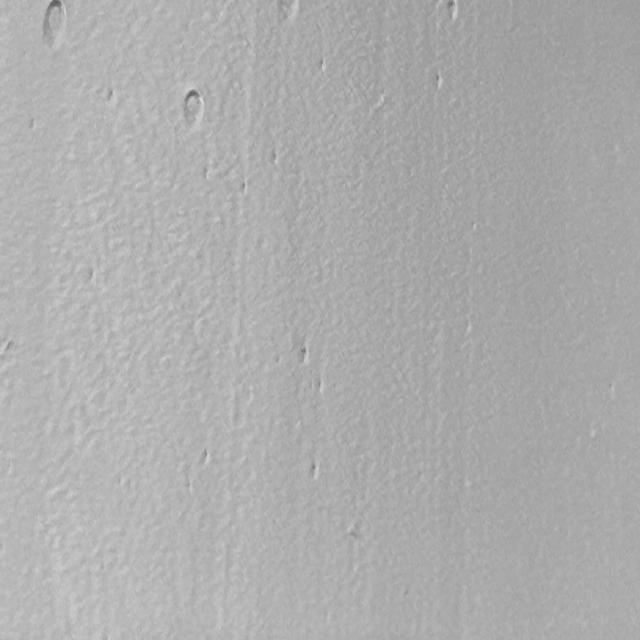pin holes: (38, 0, 71, 51), (178, 88, 206, 128), (278, 0, 304, 24), (442, 0, 463, 23), (1, 329, 15, 362), (296, 344, 312, 367), (306, 465, 322, 484), (198, 447, 212, 467), (104, 87, 118, 107), (433, 72, 445, 94), (313, 375, 326, 395), (270, 151, 282, 172), (239, 179, 248, 205), (315, 57, 327, 73)
